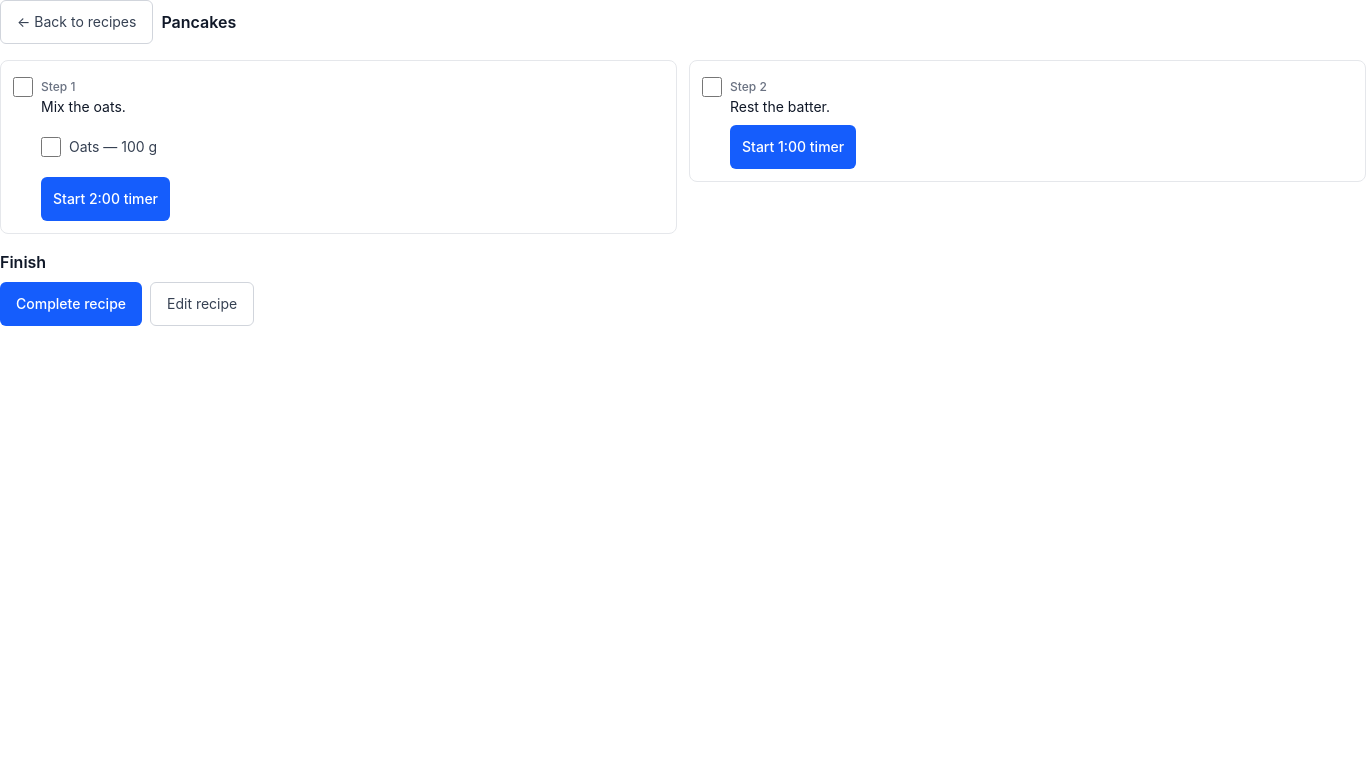
Test: RecipeCook › Complete asks for confirmation (no-undo), then calls the endpoint
Later steps or results of the test are not shown.
Expected: the element with test id "recipe-cook" is shown, [0,0,1365,326]
Click the button "Complete recipe" at [71, 304], box [0,282,142,326]
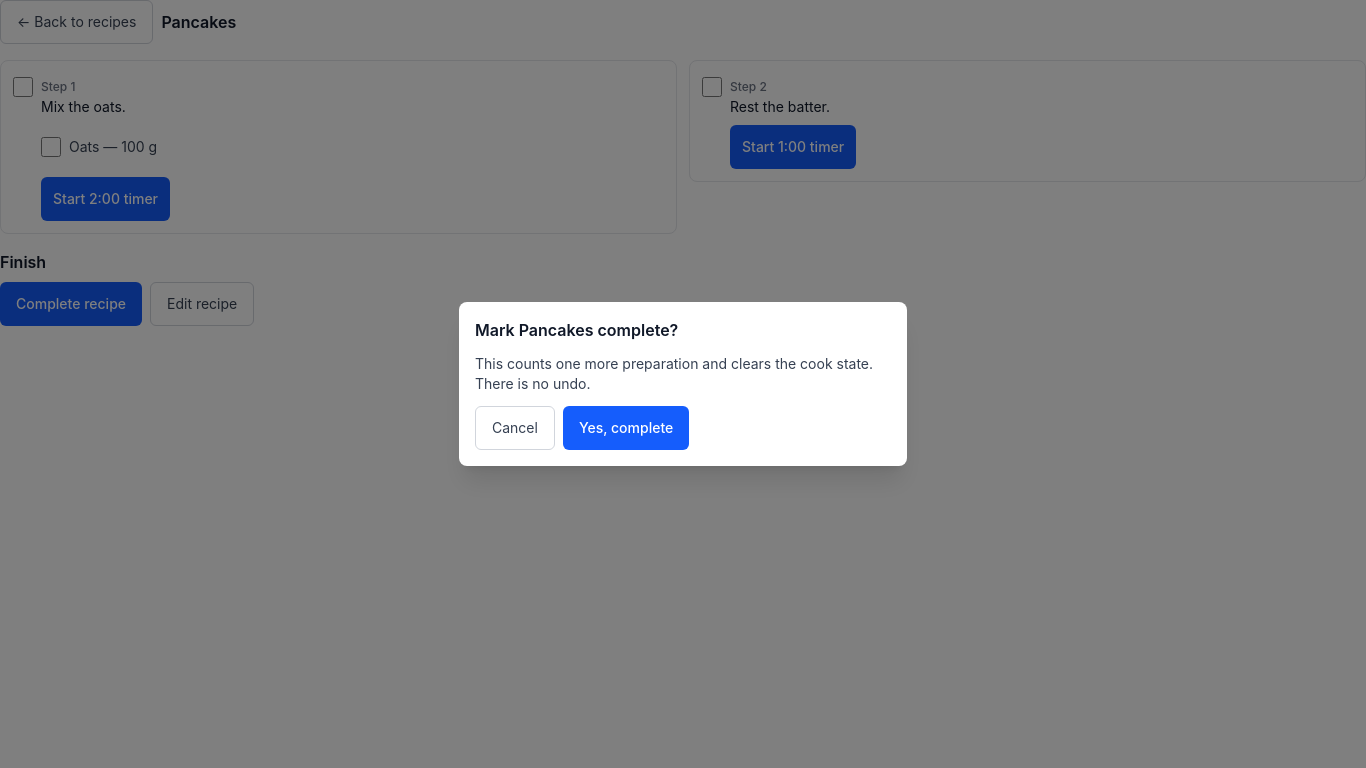
Result: the dialog named "Complete recipe" is shown
